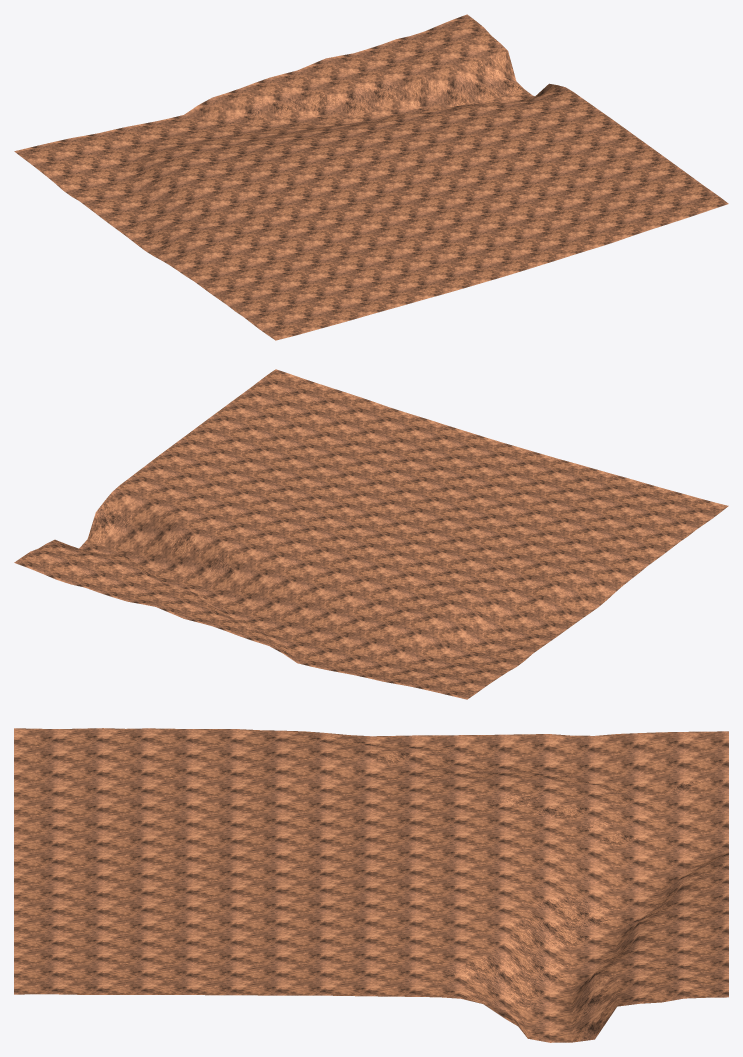
File: terrain_03_09.dae
3 views of the same model, one above another, from view 1: azimuth 30°, elevation 25°; view 2: azimuth 150°, elevation 25°; view 3: azimuth 270°, elevation 25° (orthographic). The views are drawn at different scales.
Visible parts, largest first — view 1: terrain_03_09-node; view 2: terrain_03_09-node; view 3: terrain_03_09-node.
Part boxes in pixels (box(x1,y1,x2,y2)): terrain_03_09-node: box(14, 14, 728, 340); terrain_03_09-node: box(14, 369, 728, 699); terrain_03_09-node: box(14, 728, 728, 1042).
Bounding box in the file's own units: 128 × 128 × 9.6.
1 material, 1 textured.
